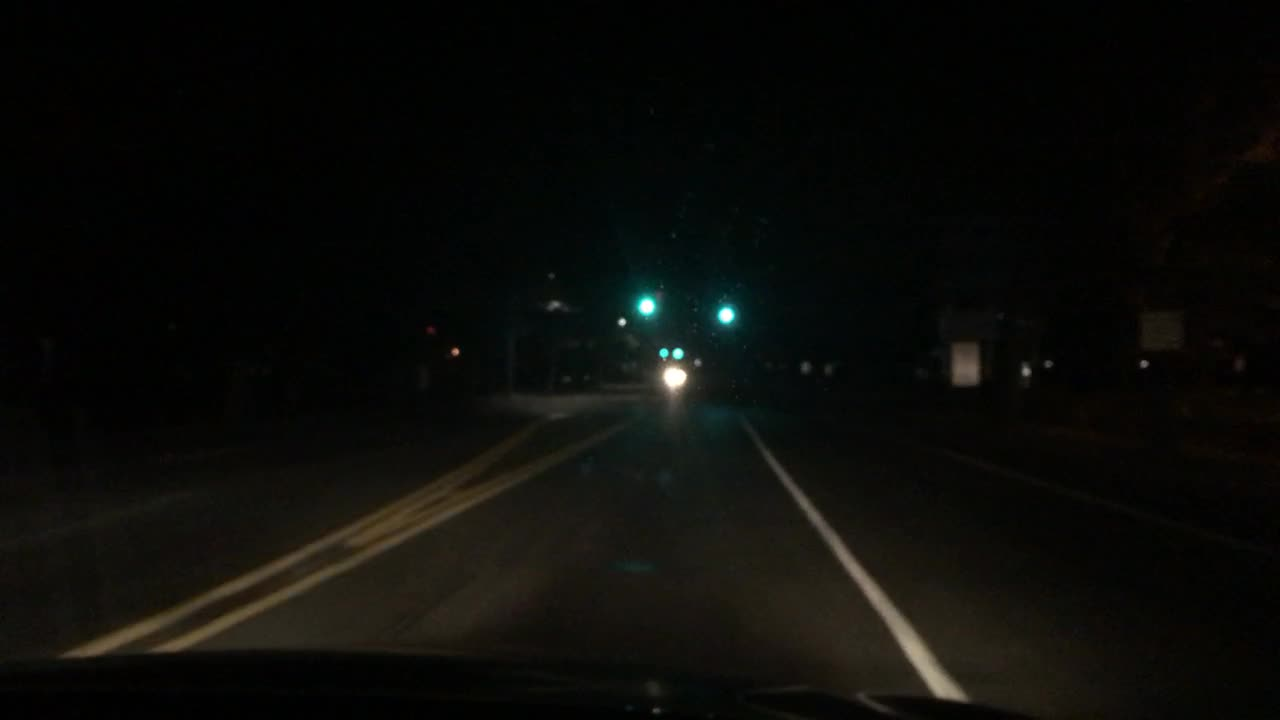car: (1135, 326, 1258, 383), (561, 365, 595, 396), (661, 365, 686, 390)
traffic light: (719, 301, 729, 324), (658, 340, 668, 360), (671, 341, 681, 360), (640, 297, 651, 314)
traffic sign: (1138, 305, 1184, 351)
